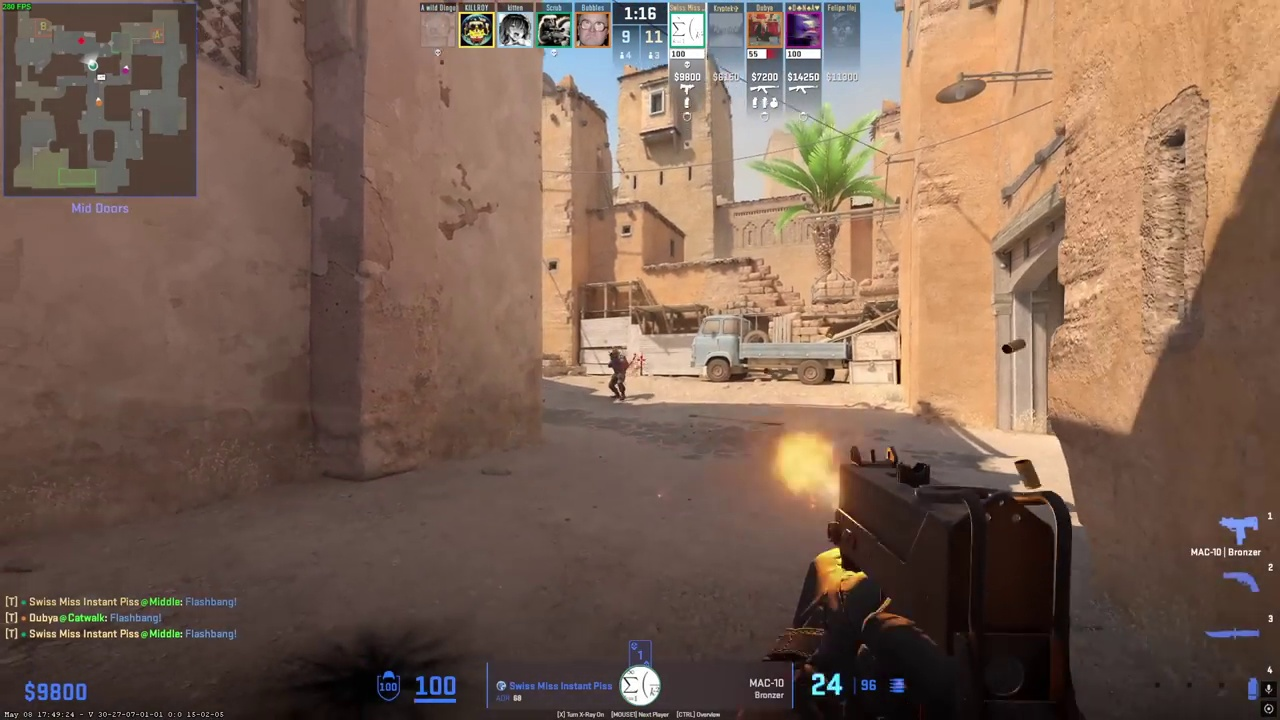CT: (607, 347, 629, 401)
